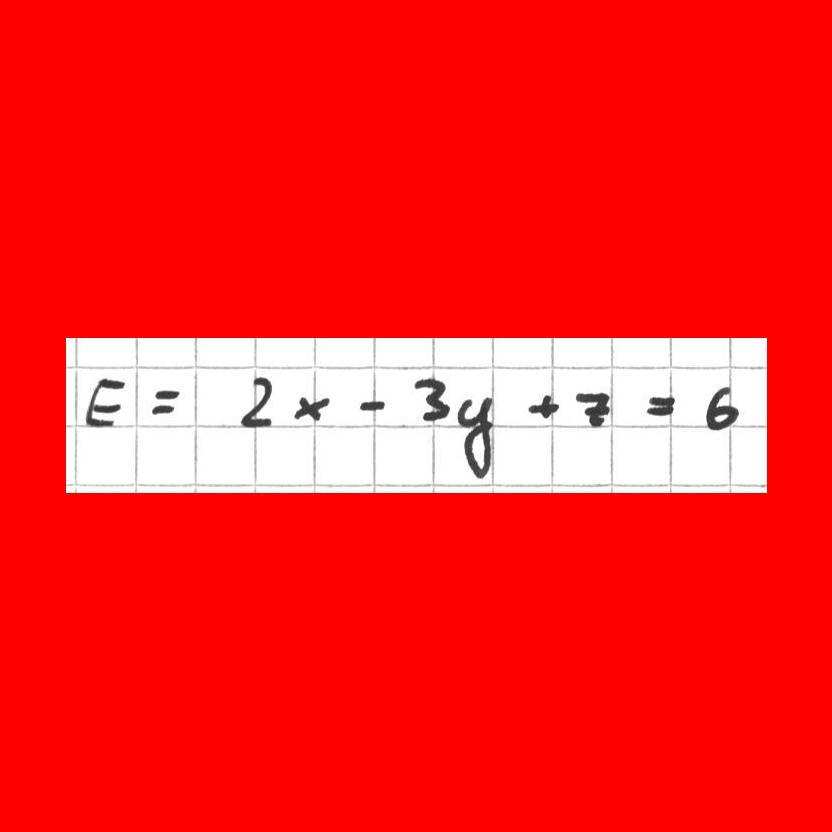Char: (454, 395, 498, 483), (697, 382, 744, 436), (83, 375, 126, 430), (236, 372, 276, 427), (411, 375, 452, 423), (570, 386, 612, 431), (292, 393, 334, 422), (525, 392, 563, 421), (149, 384, 181, 418), (643, 391, 678, 417), (355, 393, 390, 415)
